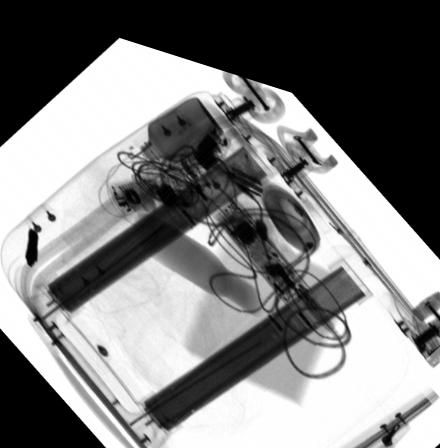Gun: (28, 225, 37, 266)
